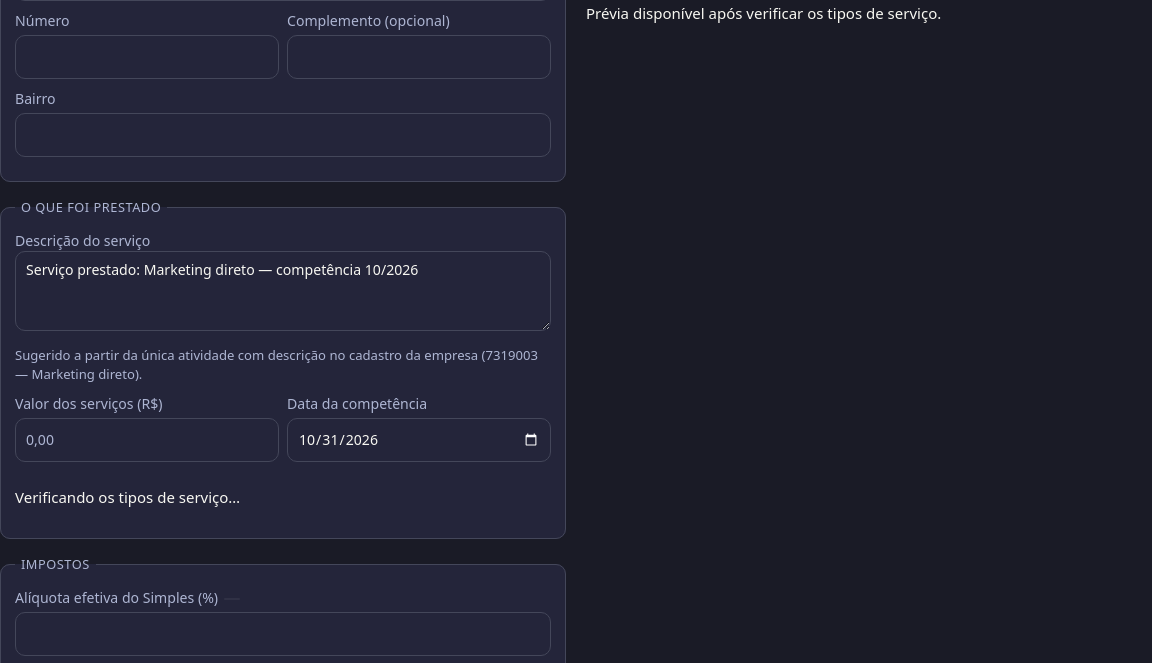
Test: a DESCRIÇÃO chega sugerida, com a origem à vista › o digitado vence, e a origem some junto
The image size is (1152, 663).
(page scrolled)
Replace the text in the text box with id "emitir-descricao" with "Consultoria contábil" at (283, 291), box [15, 251, 551, 330]
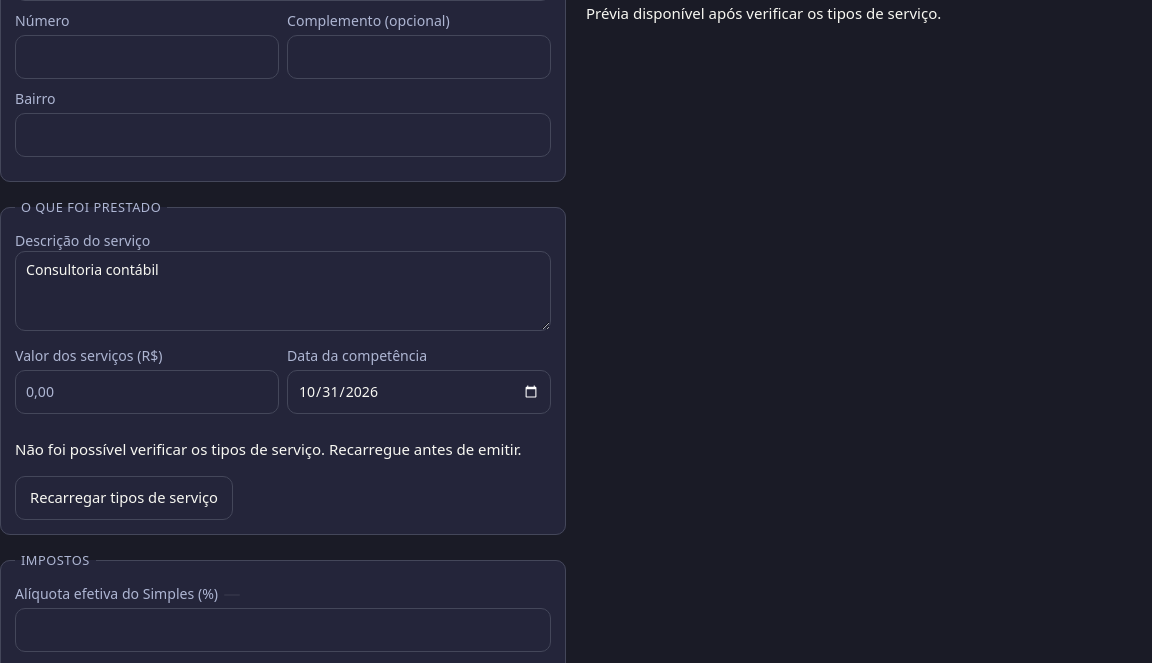
Now the text "Sugerido a partir" is gone
